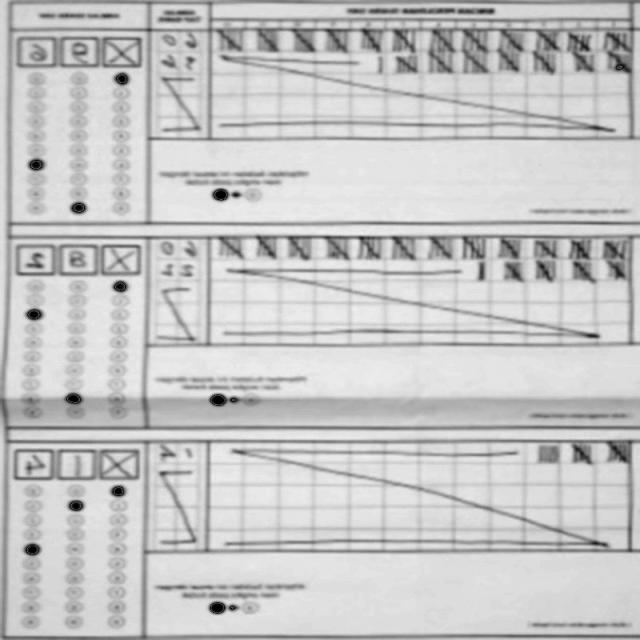Suara: (11, 30, 148, 70), (11, 238, 148, 278), (12, 442, 149, 482)
